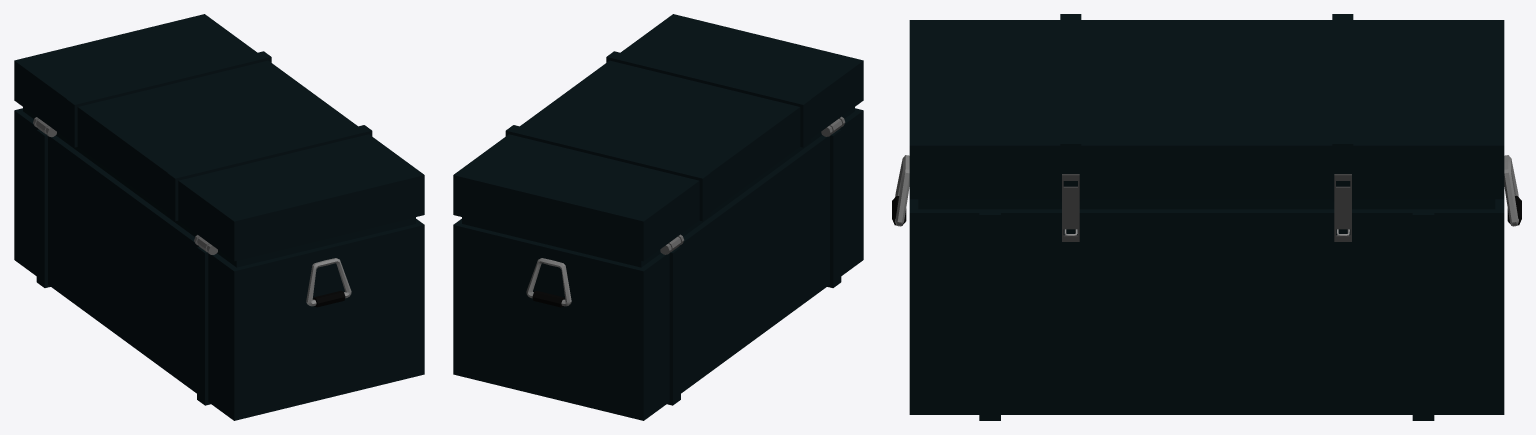
The model's file is StorageCrate_012.glb.
3 views of the same model, side by side, from view 1: azimuth 30°, elevation 25°; view 2: azimuth 150°, elevation 25°; view 3: azimuth 270°, elevation 25° (orthographic). The views are drawn at different scales.
Parts seen in each view (by area): view 1: Mesh_StorageCrate_012; view 2: Mesh_StorageCrate_012; view 3: Mesh_StorageCrate_012.
Boxes of the visible parts, x1,y1,x2,y2 form: Mesh_StorageCrate_012: (14,14,424,420); Mesh_StorageCrate_012: (453,14,863,420); Mesh_StorageCrate_012: (892,14,1521,420).
Size of the model in its own units: 0.5335 by 0.5141 by 1.06.
Materials: 1 (1 with a texture image).
